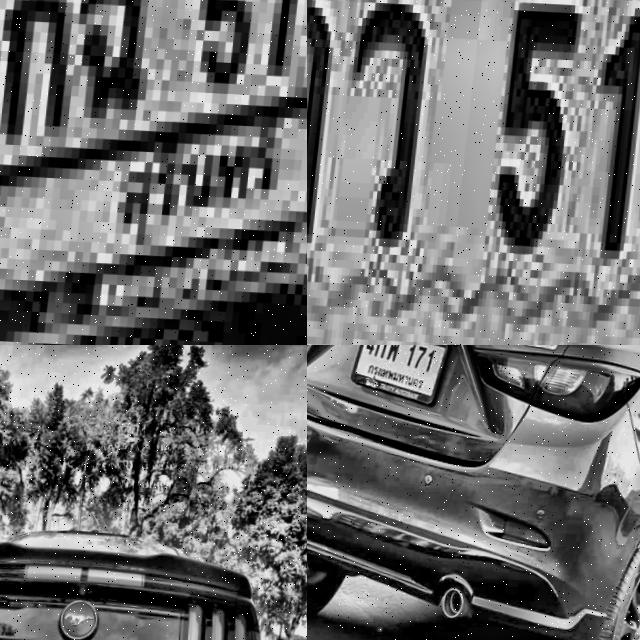license-plate: (307, 0, 640, 345), (0, 0, 307, 345), (347, 345, 459, 411)
